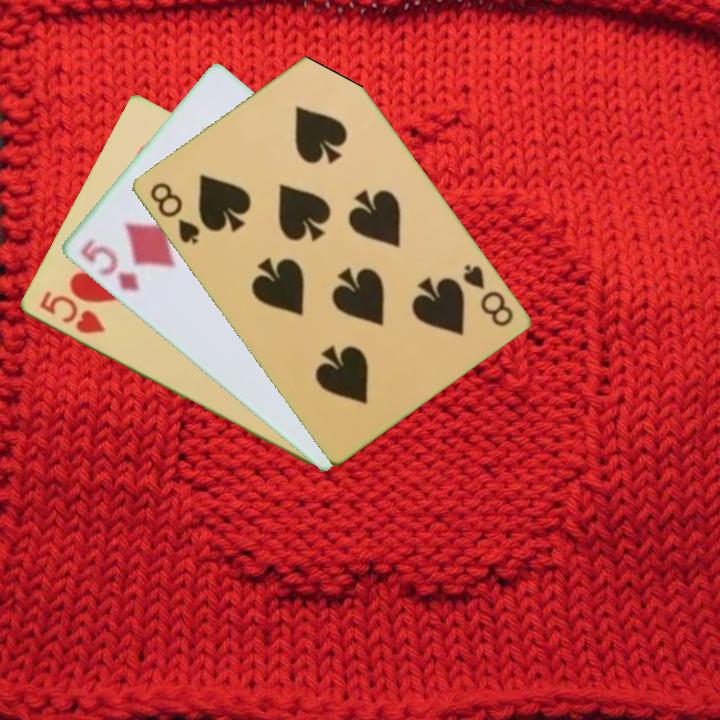5d: (76, 234, 142, 295)
5h: (35, 287, 108, 337)
8s: (458, 260, 516, 330), (146, 178, 202, 247)
